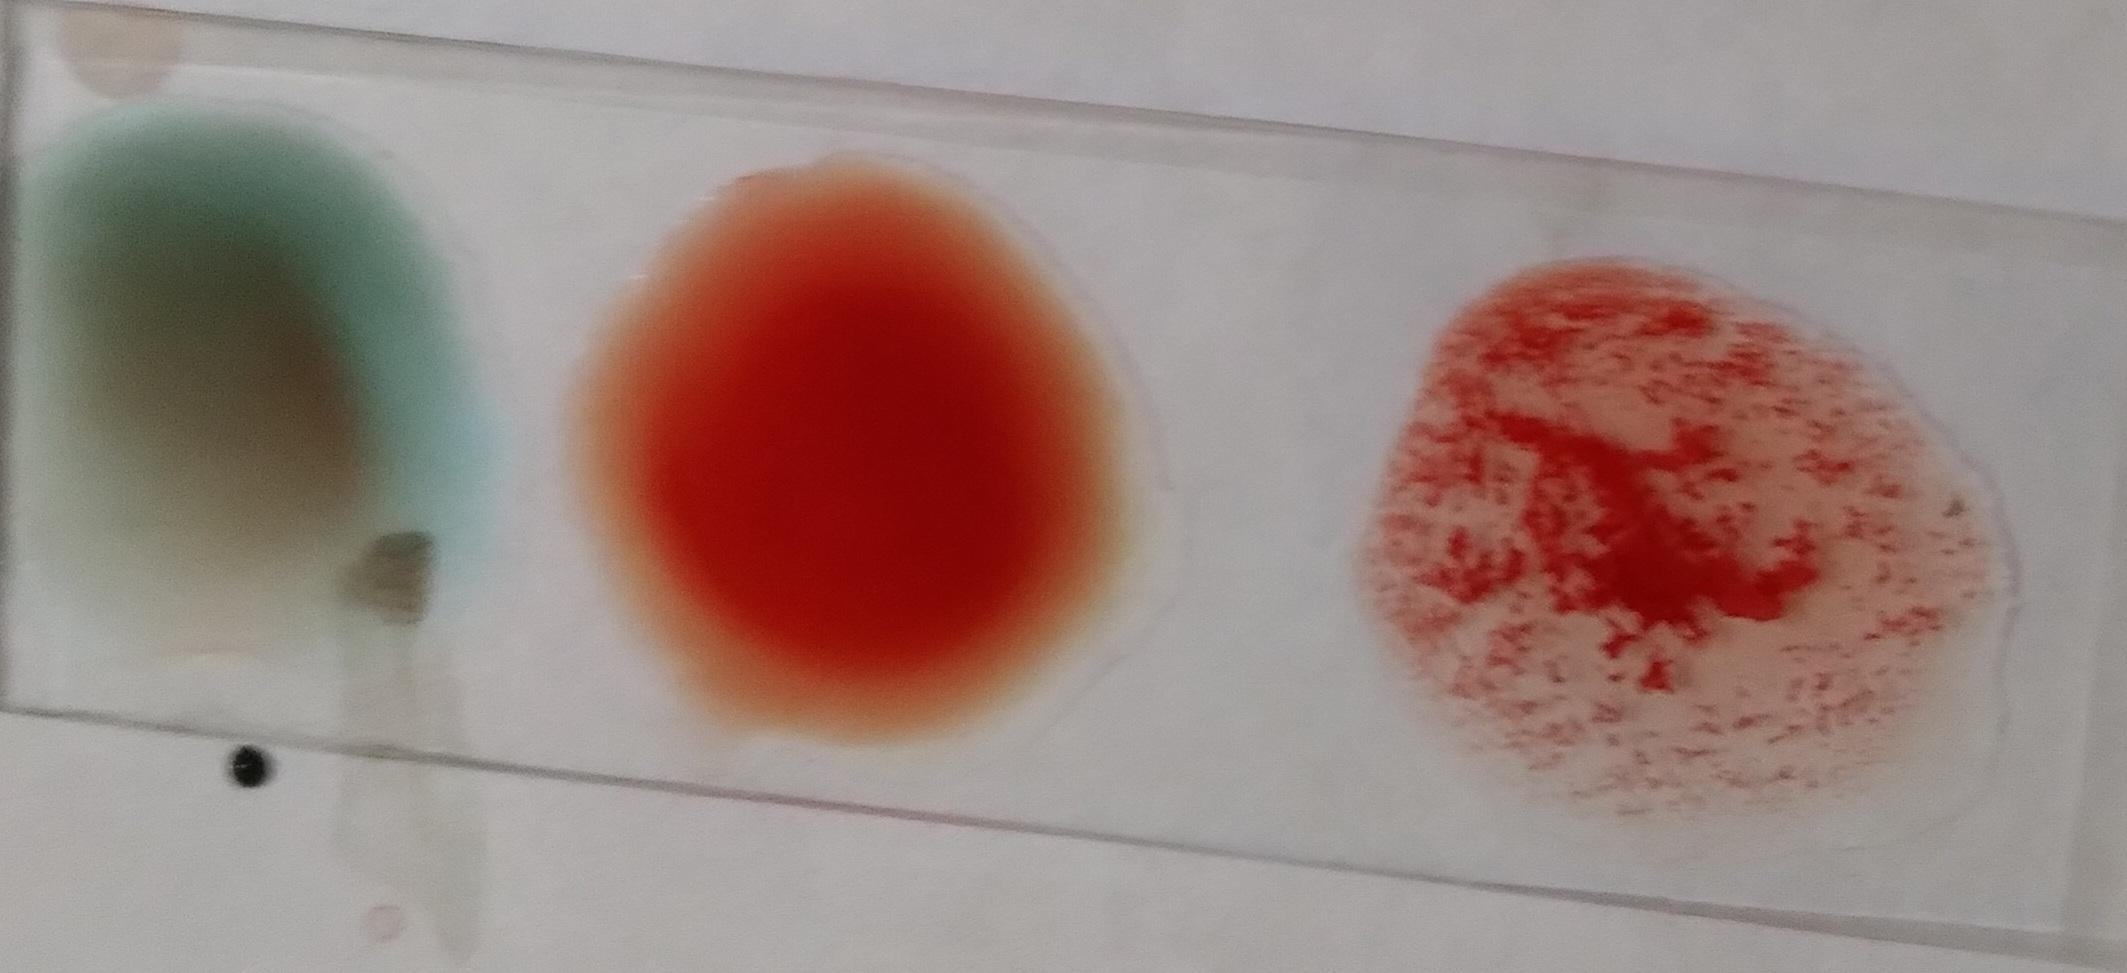D: (1365, 266, 2028, 831)
